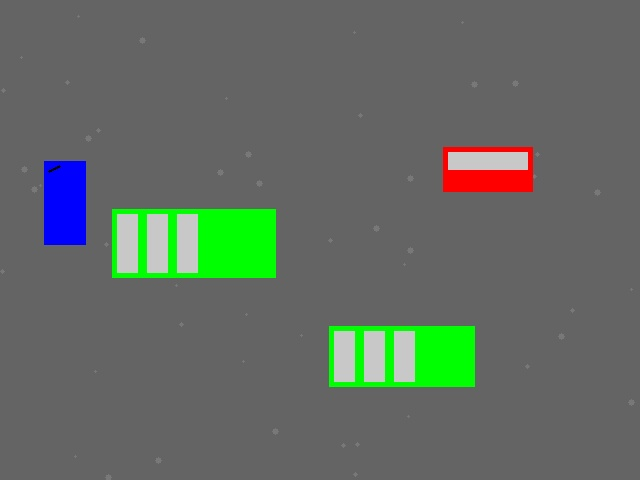bus: (112, 209, 275, 277), (329, 326, 474, 386)
car: (443, 147, 532, 191)
motorcycle: (44, 161, 85, 244)
